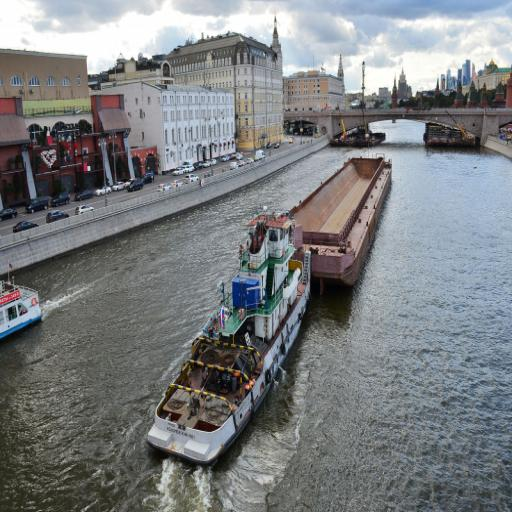tugboat: (143, 210, 317, 471)
